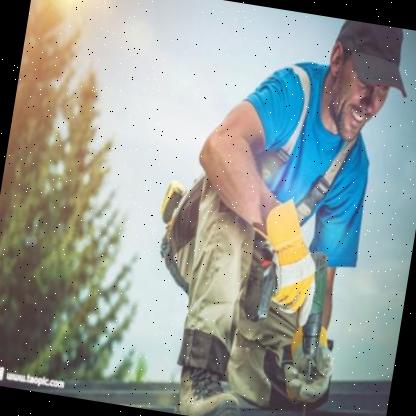bota: (162, 351, 255, 416)
